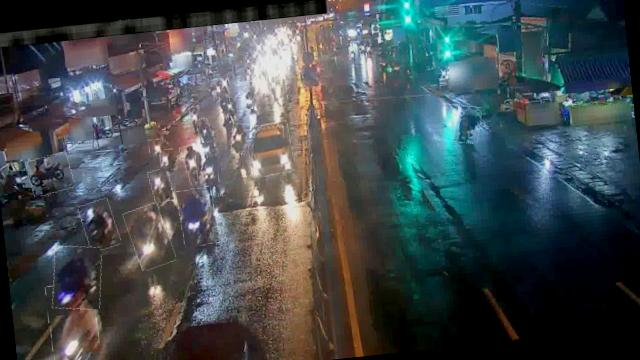Bike: (45, 281, 102, 360), (48, 243, 106, 313), (126, 203, 174, 271), (177, 186, 220, 248), (79, 199, 120, 252), (26, 152, 74, 195), (452, 103, 483, 144), (180, 143, 204, 183), (195, 150, 219, 187), (148, 168, 173, 203), (230, 123, 252, 155), (200, 132, 220, 158), (240, 80, 256, 110), (195, 118, 212, 144), (159, 148, 175, 172), (221, 94, 235, 121), (148, 139, 164, 155), (188, 106, 200, 126), (218, 89, 228, 112)
Car: (246, 121, 296, 177)
